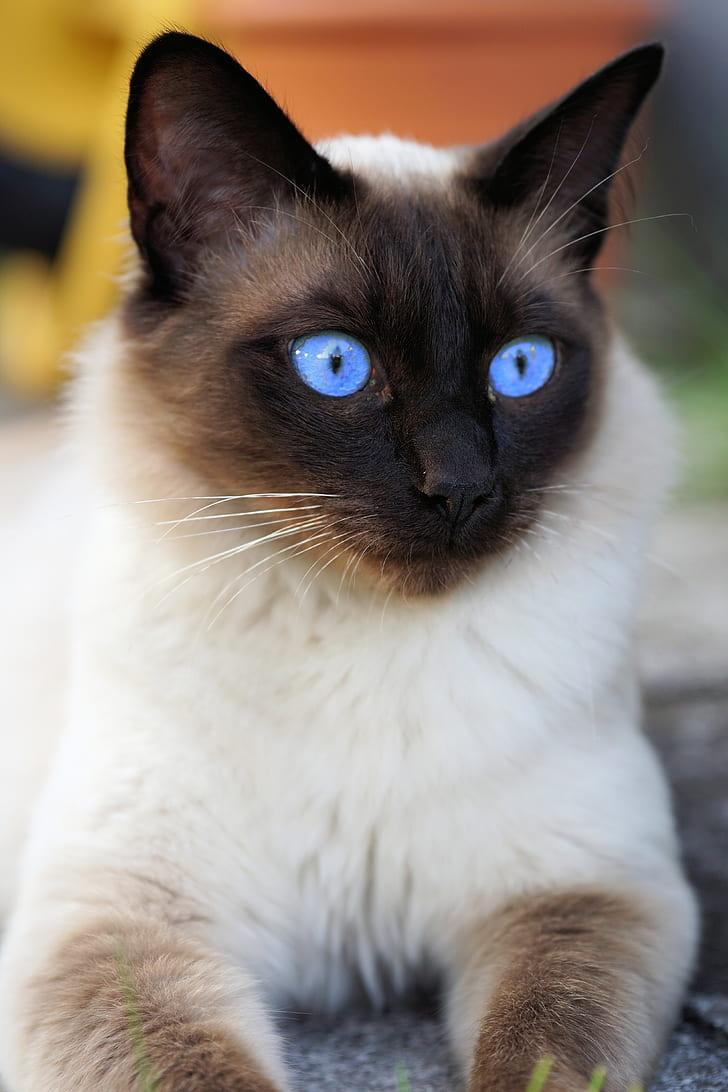siamese: (81, 19, 719, 621)
